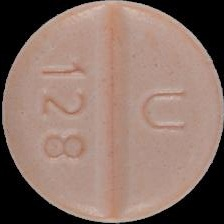0179-0065: (0, 0, 224, 224)
